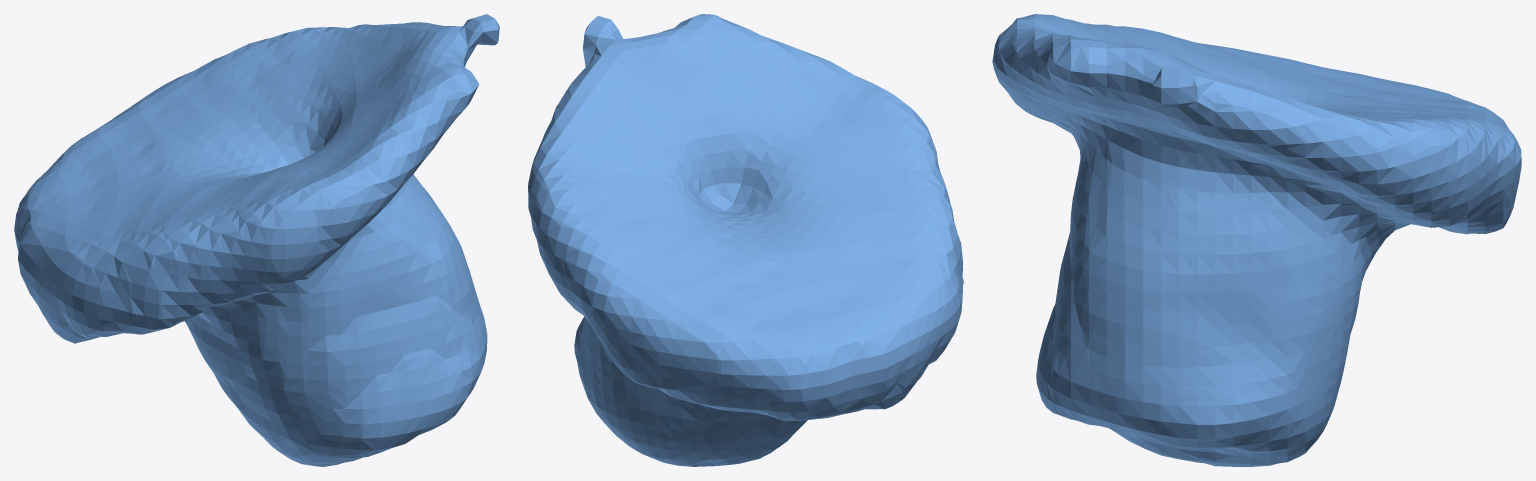
Rendered from water_0014.glb.
The picture shows the model from 3 angles, left to right: view 1: azimuth 30°, elevation 25°; view 2: azimuth 150°, elevation 25°; view 3: azimuth 270°, elevation 25°; orthographic projection. The views are drawn at different scales.
Visible parts, largest first — view 1: Water_0014; view 2: Water_0014; view 3: Water_0014.
Part boxes in pixels (box(x1,y1,x2,y2)): Water_0014: box(14, 14, 499, 466); Water_0014: box(528, 14, 963, 466); Water_0014: box(992, 14, 1521, 466).
Bounding box in the file's own units: 1.71 × 1.65 × 1.71.
